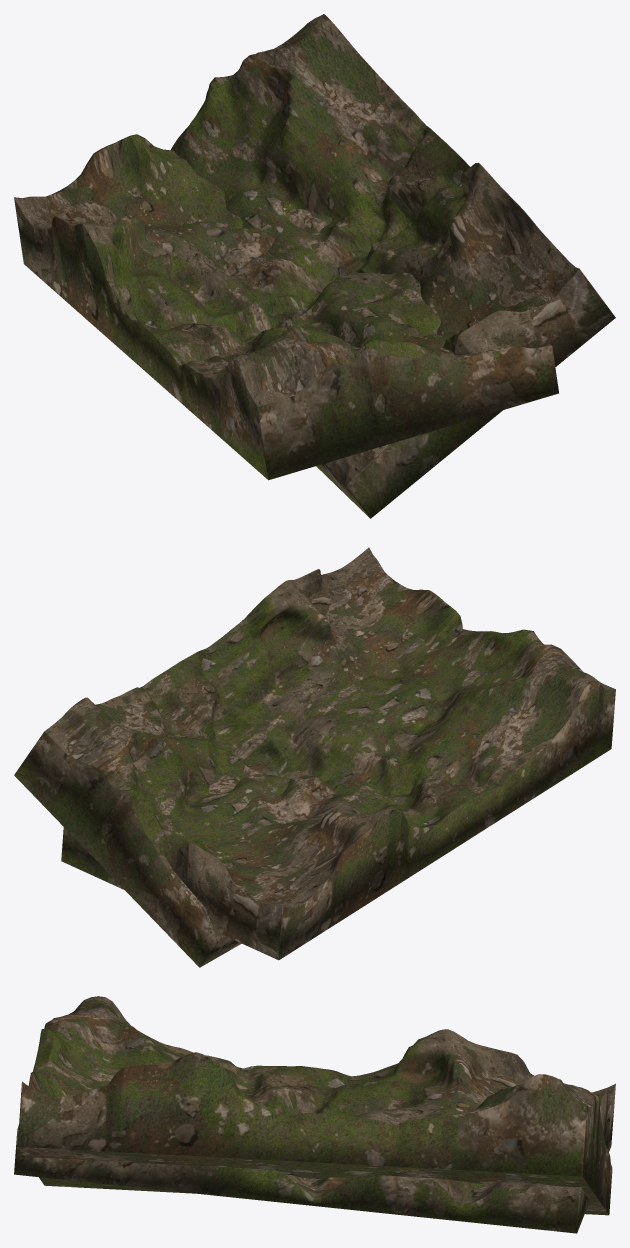
Rendered from terrain-draco-transformed.glb.
The picture shows the model from 3 angles, top to bottom: view 1: azimuth 30°, elevation 25°; view 2: azimuth 150°, elevation 25°; view 3: azimuth 270°, elevation 25°; orthographic projection. The views are drawn at different scales.
Parts seen in each view (by area): view 1: EXPORT_GOOGLE_SAT_WM.001, EXPORT_GOOGLE_SAT_WM; view 2: EXPORT_GOOGLE_SAT_WM.001, EXPORT_GOOGLE_SAT_WM; view 3: EXPORT_GOOGLE_SAT_WM, EXPORT_GOOGLE_SAT_WM.001.
Boxes of the visible parts, x1=… form: EXPORT_GOOGLE_SAT_WM.001: x1=14, y1=134, x2=558, y2=480; EXPORT_GOOGLE_SAT_WM: x1=170, y1=14, x2=615, y2=518; EXPORT_GOOGLE_SAT_WM.001: x1=61, y1=629, x2=615, y2=960; EXPORT_GOOGLE_SAT_WM: x1=14, y1=547, x2=462, y2=967; EXPORT_GOOGLE_SAT_WM: x1=17, y1=1052, x2=612, y2=1215; EXPORT_GOOGLE_SAT_WM.001: x1=14, y1=996, x2=615, y2=1233.
Bounding box in the file's own units: 67.05 × 39.38 × 97.39.
Materials: 1 (1 with a texture image).
